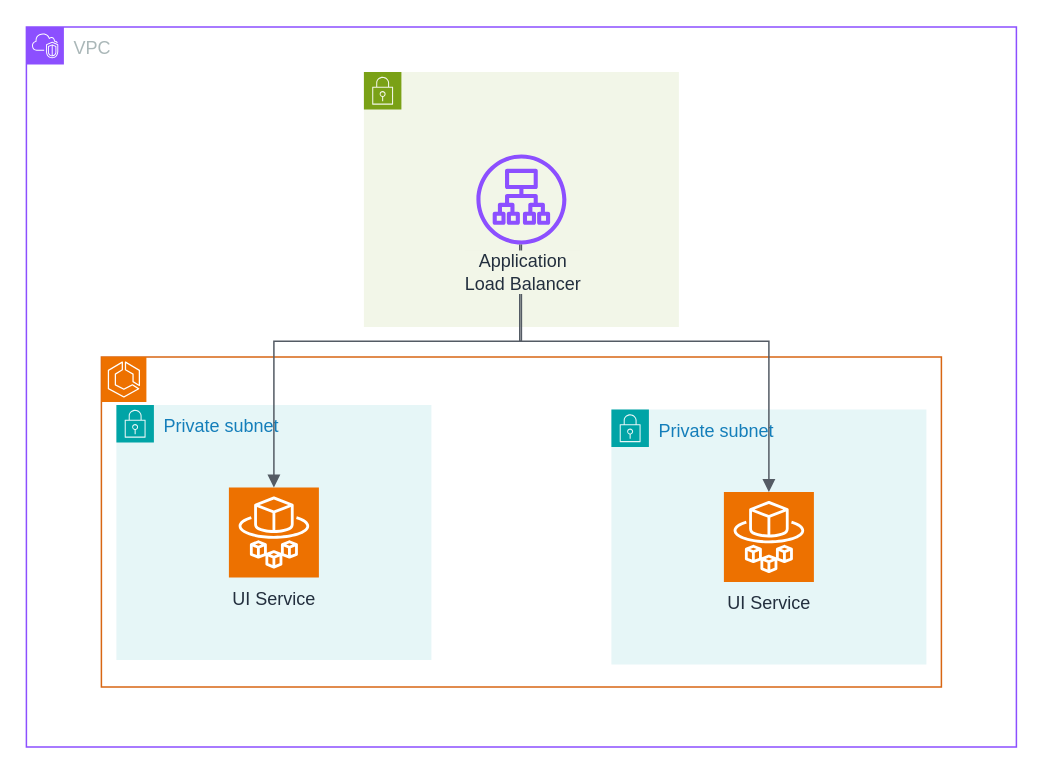
Image size: 1043x773. Some labels were removed from this diagram. Here are the shapes that lost their labels. From the top down, the box of each, then its label:
(362, 70, 679, 327): Public subnet
(100, 356, 941, 687): ECS Cluster
